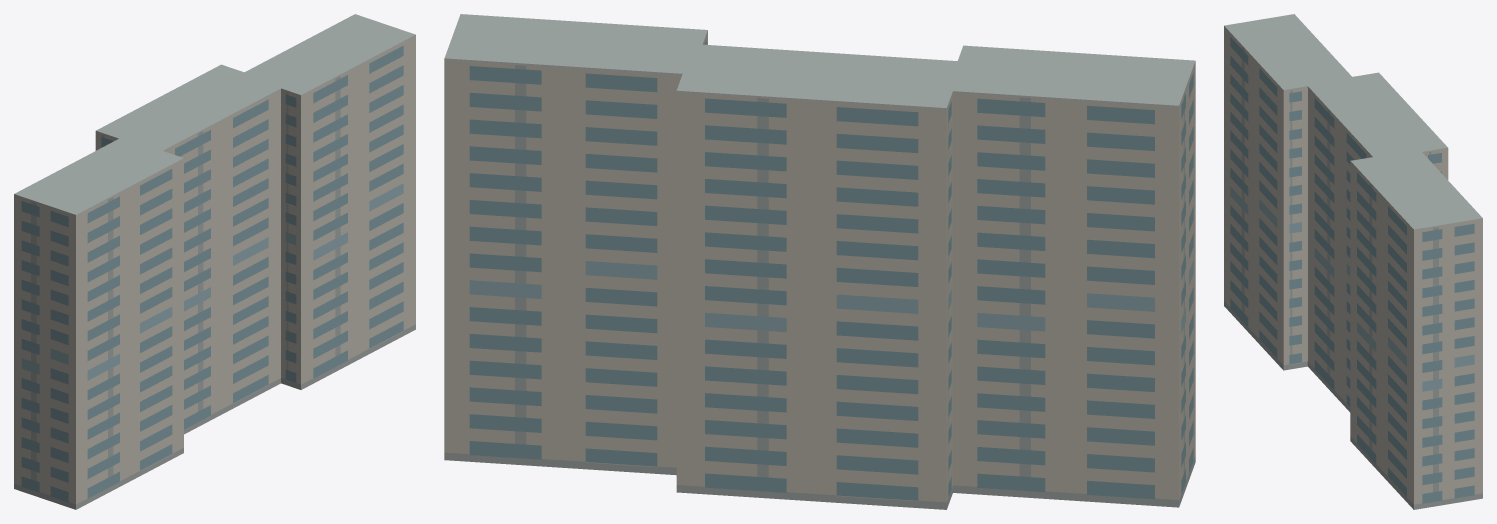
File: residential-d3edfd82-24c2-4fda-a4fd-748f4ac58873.glb
3 renders of one model, left to right at view 1: azimuth 30°, elevation 25°; view 2: azimuth 150°, elevation 25°; view 3: azimuth 270°, elevation 25°, orthographic. The views are drawn at different scales.
Parts seen in each view (by area): view 1: residential-d3edfd82-24c2-4fda-a4fd-748f4ac58873.tmp; view 2: residential-d3edfd82-24c2-4fda-a4fd-748f4ac58873.tmp; view 3: residential-d3edfd82-24c2-4fda-a4fd-748f4ac58873.tmp.
Part boxes in pixels (bbox=[...]): residential-d3edfd82-24c2-4fda-a4fd-748f4ac58873.tmp: bbox=[14, 14, 415, 509]; residential-d3edfd82-24c2-4fda-a4fd-748f4ac58873.tmp: bbox=[444, 14, 1195, 509]; residential-d3edfd82-24c2-4fda-a4fd-748f4ac58873.tmp: bbox=[1224, 14, 1482, 509].
Bounding box in the file's own units: 75.43 × 45.75 × 38.29.
